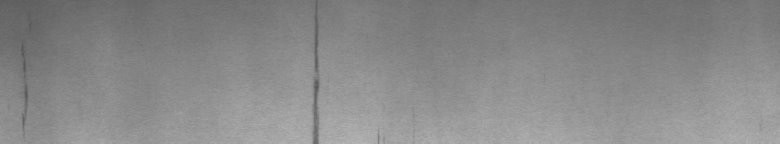hd: (308, 4, 324, 136)
